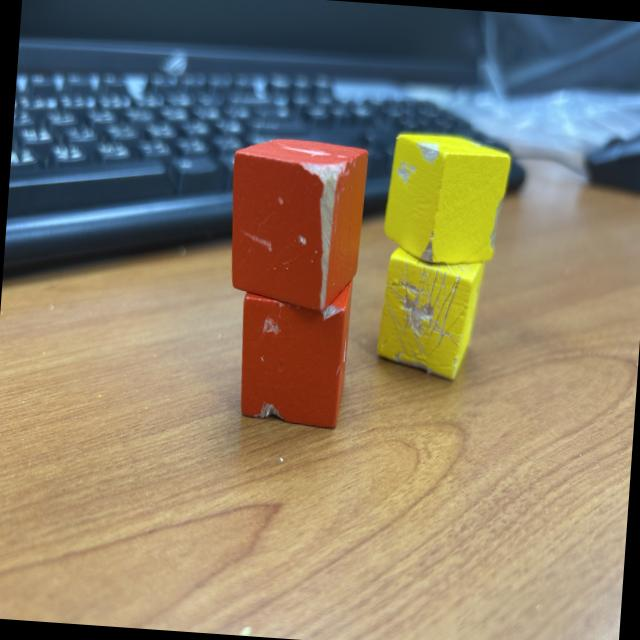broken: (223, 135, 369, 315), (235, 268, 352, 430), (379, 129, 512, 269), (375, 242, 485, 382)
